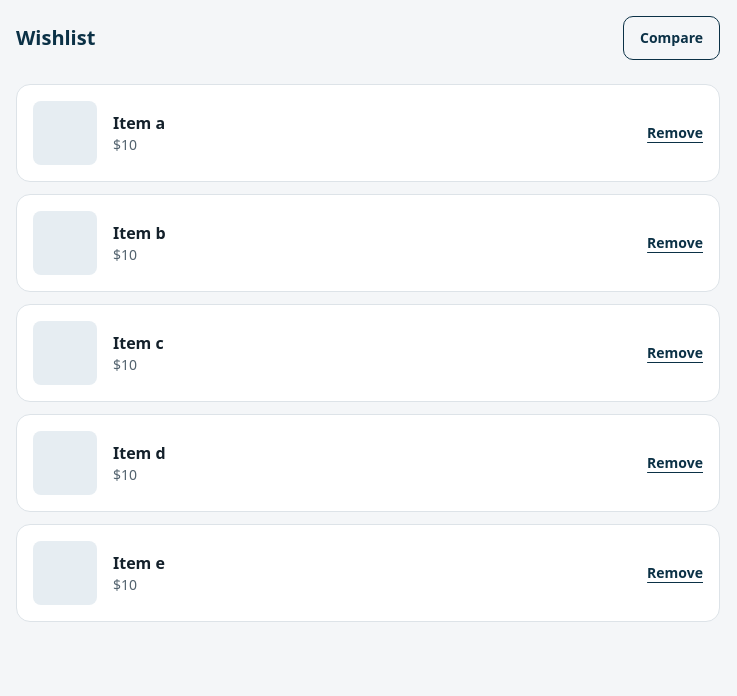
wishlist: compare › Cancel leaves compare mode and forgets the picks; with a single saved part there is nothing to compare
This screenshot has width=737, height=696.
expect the text "Item a" is shown: met, box [113, 112, 165, 134]
Click the button "Compare": (672, 38) [623, 16, 720, 60]
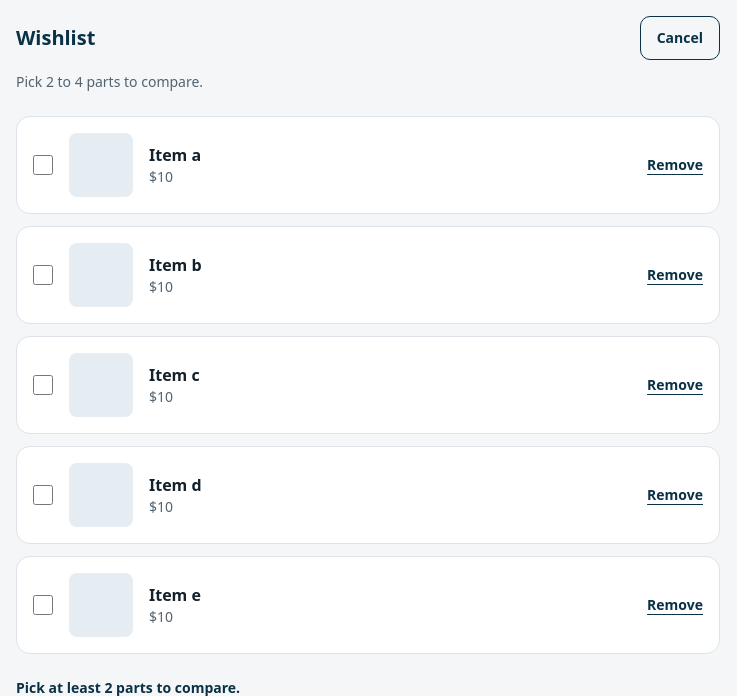
Click the checkbox named "Item a": (43, 165) [33, 155, 53, 175]
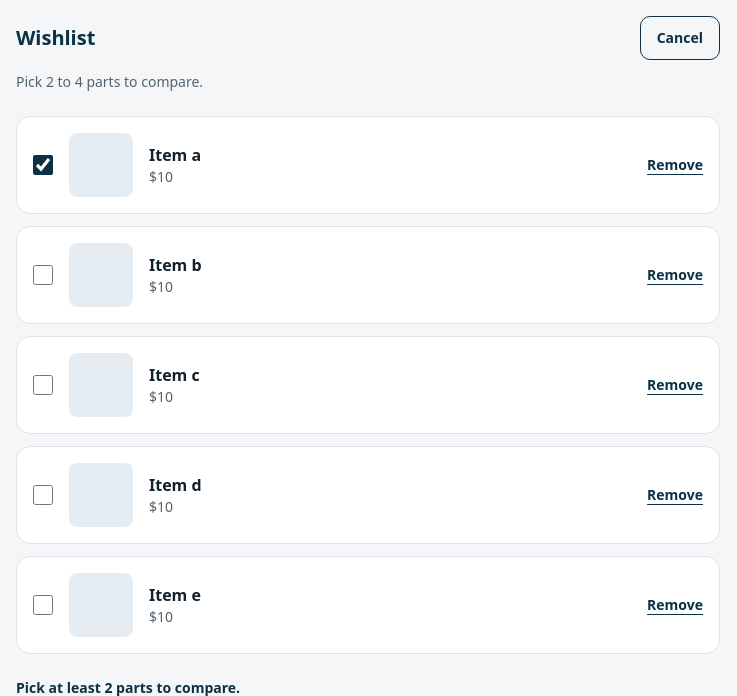
Click the button "Cancel": (680, 38) [640, 16, 720, 60]
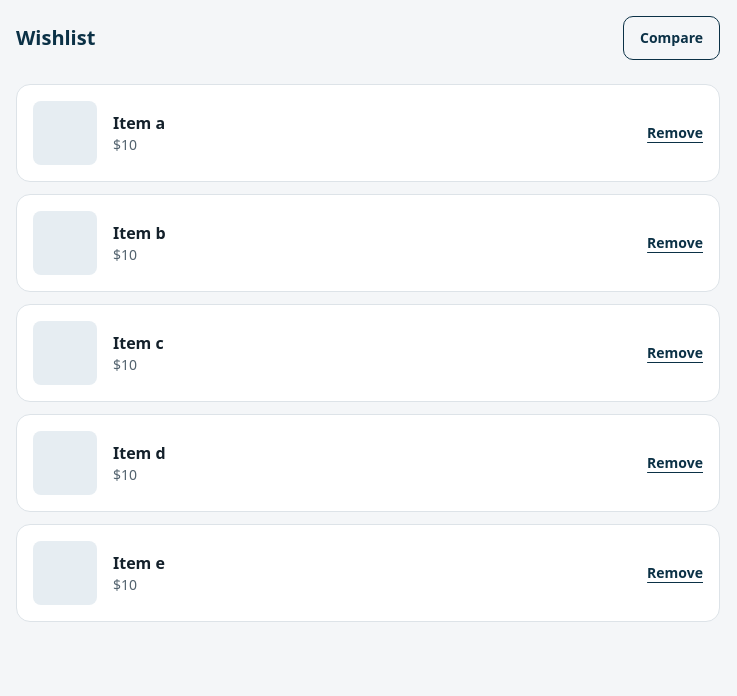
expect the checkbox is gone: met
Click the button "Compare": (672, 38) [623, 16, 720, 60]
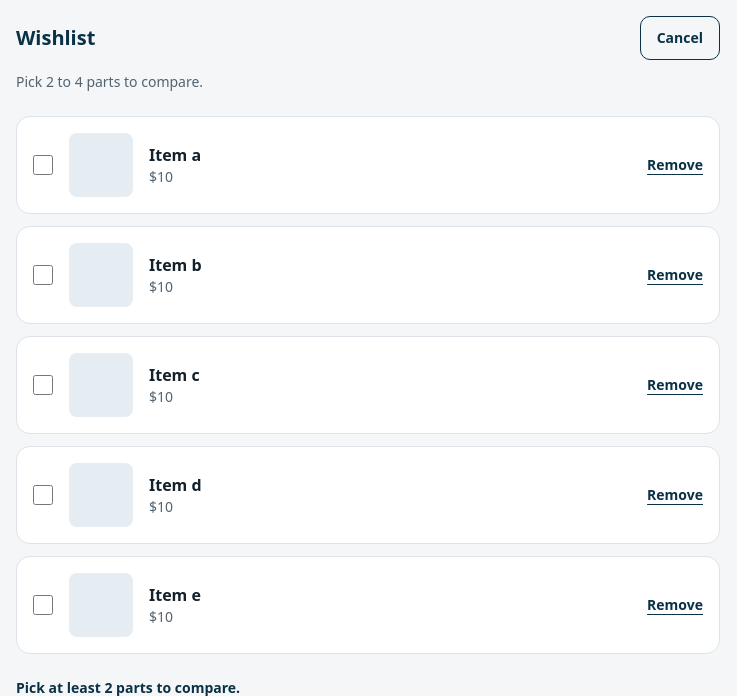
expect the checkbox named "Item a" is not checked: met, box [33, 155, 53, 175]
